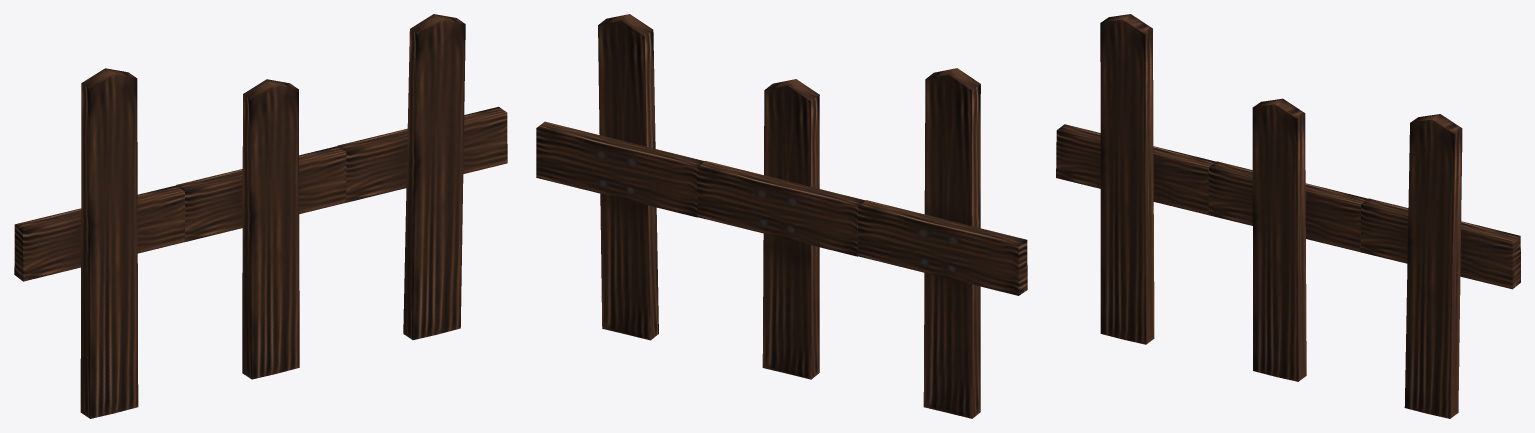
File: fence-farm.fbx
3 renders of one model, left to right at view 1: azimuth 30°, elevation 25°; view 2: azimuth 150°, elevation 25°; view 3: azimuth 330°, elevation 25°, orthographic. The views are drawn at different scales.
Visible parts, largest first — view 1: fence_farm_vert, fence_farm_vert_2, fence_farm_vert_1, fence_farm_hor, fence_farm_hor_2, fence_farm_hor_1; view 2: fence_farm_vert, fence_farm_vert_2, fence_farm_vert_1, fence_farm_hor, fence_farm_hor_2, fence_farm_hor_1; view 3: fence_farm_vert, fence_farm_vert_2, fence_farm_vert_1, fence_farm_hor_2, fence_farm_hor, fence_farm_hor_1.
Part boxes in pixels (x1,y1,x2,y2): fence_farm_vert: (80,68,138,418); fence_farm_vert_2: (403,14,465,339); fence_farm_vert_1: (242,79,299,379); fence_farm_hor: (14,185,184,281); fence_farm_hor_2: (337,106,507,202); fence_farm_hor_1: (176,146,346,241); fence_farm_vert: (923,68,980,418); fence_farm_vert_2: (598,14,658,340); fence_farm_vert_1: (762,79,819,379); fence_farm_hor: (857,200,1027,295); fence_farm_hor_2: (536,121,704,217); fence_farm_hor_1: (697,161,865,256); fence_farm_vert: (1100,14,1154,344); fence_farm_vert_2: (1404,114,1462,418); fence_farm_vert_1: (1252,98,1306,381); fence_farm_hor_2: (1360,198,1520,289); fence_farm_hor: (1056,124,1215,214); fence_farm_hor_1: (1208,161,1367,251).
Bounding box in the file's own units: 297 × 199 × 20.22.
Materials: 1 (1 with a texture image).
